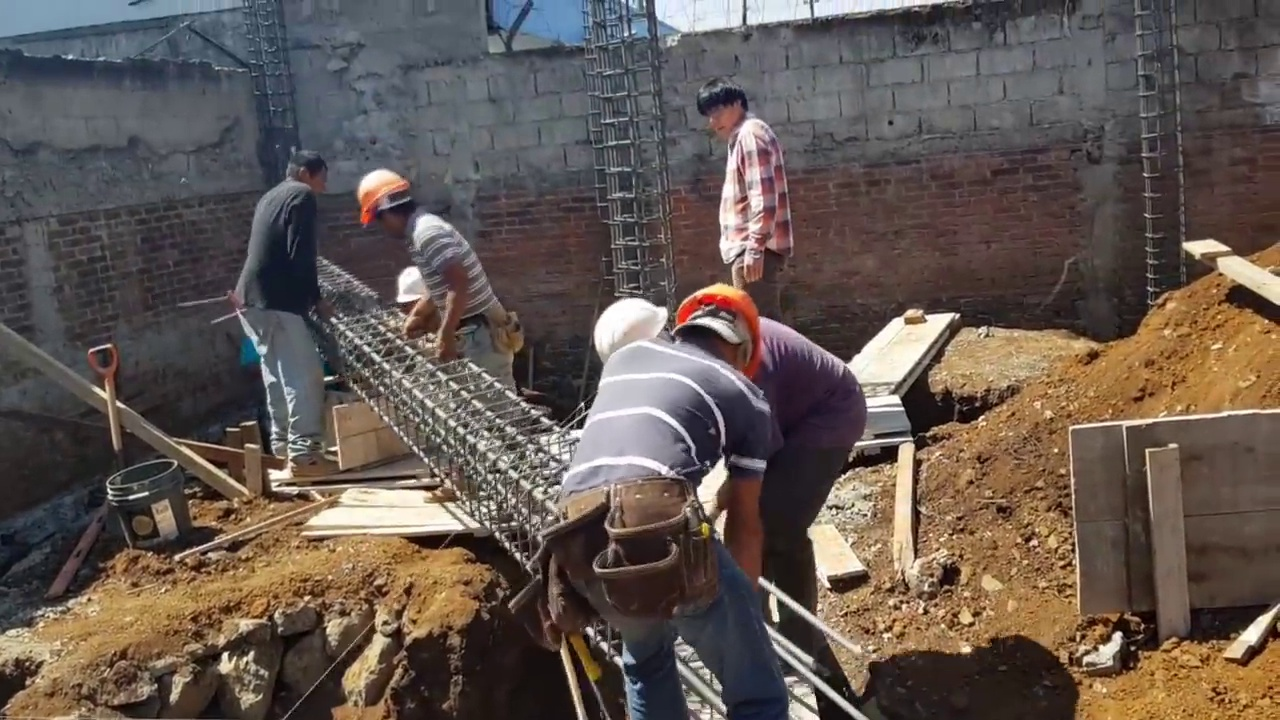helmet: (675, 289, 765, 368), (595, 301, 656, 372), (351, 170, 401, 229)
helmet-off: (699, 78, 753, 139), (283, 149, 323, 186)
helmet-on: (662, 279, 760, 384), (349, 168, 429, 246)
person: (597, 298, 870, 651), (566, 296, 788, 719), (345, 161, 525, 398), (233, 150, 334, 483), (695, 76, 792, 299)
